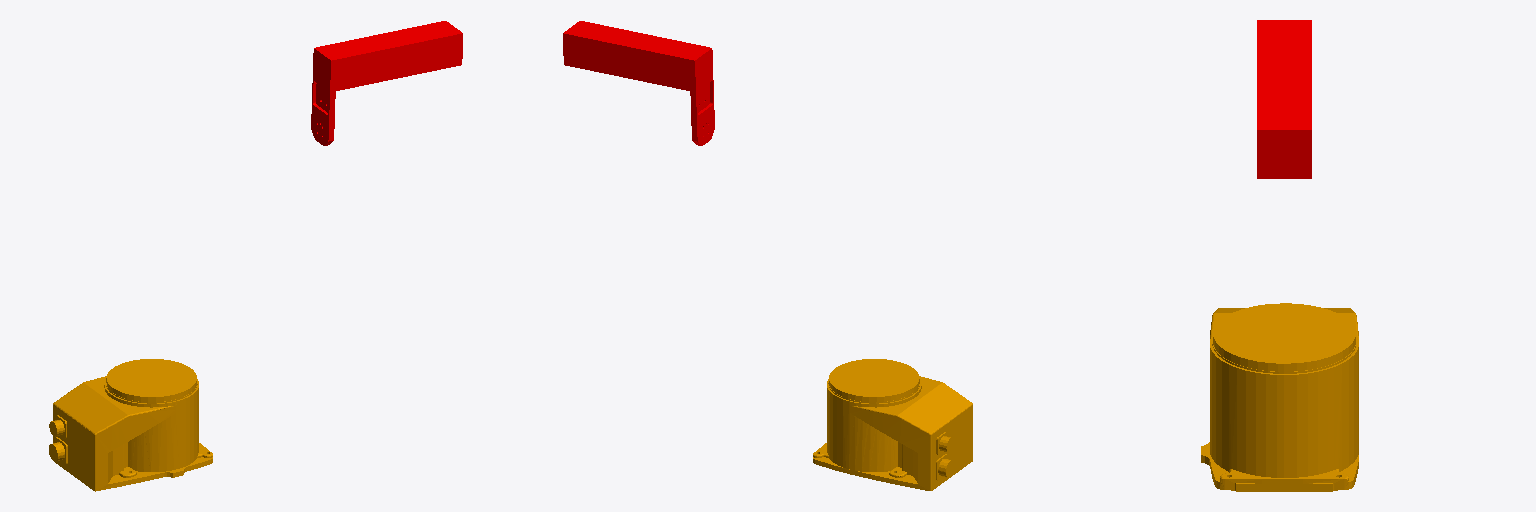
The robot description file, URDF, robot "Mitsubishi Melfa RV-4A":
<robot name="Mitsubishi Melfa RV-4A">
    <material name="red">
        <color rgba="1 0 0 0.8"/>
    </material>
    <material name="green">
        <color rgba="0 1 0 0.8"/>
    </material>

    <!-- Link section -->
    <link name="base">
        <inertial>
            <origin xyz="0 0 0"/>
            <mass value="10.842"/>
            <inertia ixx="0" ixy="0" ixz="0" iyy="0" iyz="0" izz="0"/>
        </inertial>
        <visual name="BASE">
            <geometry>
                <mesh filename="collision/rv_4a_top_1_RV_4A_BASE.stl"/>
            </geometry>
            <origin xyz="0 0 0"/>
        </visual>
    </link>
    <link name="link1">
        <inertial>
            <origin xyz="0 0 0" rpy="0 0 0"/>
            <mass value="8.060"/>
            <inertia ixx="0" ixy="0" ixz="0" iyy="0" iyz="0" izz="0"/>
        </inertial>
        <visual name="SHOULDER">
            <geometry>
                <mesh filename="collision/rv_4a_top_1_RV_4A_SHOULDER.stl"/>
            </geometry>
            <origin xyz="0 0 0"/>
            <material name="green"/>
        </visual>
    </link>
    <link name="link2">
        <inertial>
            <origin xyz="0 0 0" rpy="0 0 0"/>
            <mass value="5.588"/>
            <inertia ixx="0" ixy="0" ixz="0" iyy="0" iyz="0" izz="0"/>
        </inertial>
        <visual name="NO1ARM">
            <geometry>
                <mesh filename="collision/rv_4a_top_1_RV_4A_NO1ARM.stl"/>
            </geometry>
            <origin xyz="-100 0 -350"/>
            <material name="red"/>
        </visual>
    </link>
    <link name="link3">
        <inertial>
            <origin xyz="0 0 0" rpy="0 0 0"/>
            <mass value="8.311"/>
            <inertia ixx="0" ixy="0" ixz="0" iyy="0" iyz="0" izz="0"/>
        </inertial>
        <visual name="ELBOW">
            <geometry>
                <mesh filename="collision/rv_4a_top_1_RV_4A_ELBOW.stl"/>
            </geometry>
            <origin xyz="-100 0 -600"/>
        </visual>
    </link>
    <link name="link4">
        <inertial>
            <origin xyz="0 0 0" rpy="0 0 0"/>
            <mass value="3.204"/>
            <inertia ixx="0" ixy="0" ixz="0" iyy="0" iyz="0" izz="0"/>
        </inertial>
        <visual name="NO2ARM">
            <geometry>
                <mesh filename="collision/rv_4a_top_1_RV_4A_NO2ARM.stl"/>
            </geometry>
            <origin xyz="-100 0 -735"/>
            <material name="red"/>
        </visual>
    </link>
    <link name="link5">
        <inertial>
            <origin xyz="0 0 0" rpy="0 0 0"/>
            <mass value="1.243"/>
            <inertia ixx="0" ixy="0" ixz="0" iyy="0" iyz="0" izz="0"/>
        </inertial>
        <visual name="WRIST">
            <geometry>
                <mesh filename="collision/rv_4a_top_1_RV_4A_WRIST.stl"/>
            </geometry>
            <origin xyz="-350 0 -735"/>
            <material name="green"/>
        </visual>
    </link>
    <link name="link6">
        <inertial>
            <origin xyz="0 0 0" rpy="0 0 0"/>
            <mass value="0.107"/>
            <inertia ixx="0" ixy="0" ixz="0" iyy="0" iyz="0" izz="0"/>
        </inertial>
        <visual name="WRIST FLANGE">
            <geometry>
                <mesh filename="collision/rv_4a_top_1_RV_4A_WRIST_FLANGE.stl"/>
            </geometry>
            <origin xyz="-440 0 -735" rpy="0 0 0"/>
        </visual>
    </link>
    <link name="adapter_plate">
        <inertial>
            <origin xyz="0 0 0" rpy="0 0 0"/>
            <mass value="0.140"/>
            <inertia ixx="0" ixy="0" ixz="0" iyy="0" iyz="0" izz="0"/>
        </inertial>
        <visual name="ADAPTER PLATE">
            <geometry>
                <mesh filename="collision/adapter.stl"/>
            </geometry>
            <origin xyz="0 0 0" rpy="-1.5708 0 -1.5708"/>
            <material name="red"/>
        </visual>
    </link>
    <link name="tool">
        <inertial>
            <origin xyz="0 0 0" rpy="0 0 0"/>
            <mass value="2"/>
            <inertia ixx="0" ixy="0" ixz="0" iyy="0" iyz="0" izz="0"/>
        </inertial>
        <visual name="EXTRUDER">
            <geometry>
                <box size="80 80 350"/>
            </geometry>
            <origin xyz="175 0 150" rpy="-1.5708 0 -1.5708"/>
            <material name="red"/>
        </visual>
    </link>

    <!-- Serial chain of joints -->
    <joint name="J1" type="revolute">
        <origin xyz="0 0 0" rpy="0 0 0"/>
        <parent link="base"/>
        <child link="link1"/>
        <limit lower="-2.7925" upper="2.7925" effort="0" velocity="3.7699"/>
        <axis xyz="0 0 1"/>
    </joint>
    <joint name="J2" type="revolute">
        <origin xyz="100 0 350" rpy="0 0 0"/>
        <parent link="link1"/>
        <child link="link2"/>
        <axis xyz="0 1 0"/>
        <limit lower="-1.5708" upper="2.4435" effort="0" velocity="4.7124"/>
        <axis xyz="0 0 1"/>
    </joint>
    <joint name="J3" type="revolute">
        <origin xyz="0 0 250" rpy="0 -1.5708 0"/>
        <parent link="link2"/>
        <child link="link3"/>
        <axis xyz="0 1 0"/>
        <limit lower="0.2618" upper="2.9496" effort="0" velocity="4.7124"/>
    </joint>
    <joint name="J4" type="revolute">
        <origin xyz="0 0 135" rpy="0 0 0"/>
        <parent link="link3"/>
        <child link="link4"/>
        <axis xyz="1 0 0"/>
        <limit lower="-2.7925" upper="2.7925" effort="0" velocity="4.7124"/>
    </joint>
    <joint name="J5" type="revolute">
        <origin xyz="250 0 0" rpy="0 0 0"/>
        <parent link="link4"/>
        <child link="link5"/>
        <axis xyz="0 1 0"/>
        <limit lower="-2.0944" upper="2.0944" effort="0" velocity="4.7124"/>
    </joint>
    <joint name="J6" type="revolute">
        <origin xyz="90 0 0" rpy="0 0 0"/>
        <parent link="link5"/>
        <child link="link6"/>
        <axis xyz="1 0 0"/>
        <limit lower="-3.4907" upper="3.4907" effort="0" velocity="7.5398"/>
    </joint>
    <joint name="WRIST FLANGE" type="fixed">
        <parent link="link6"/>
        <child link="adapter_plate"/>
    </joint>
    <joint name="INTERFACE EXTRUDER" type="fixed">
        <parent link="adapter_plate"/>
        <child link="tool"/>
    </joint>
</robot>

--- What the picture shows (computed from the rendered views, not written in the file) ---
3 views of the same robot in one strip: view 1: azimuth 30°, elevation 25°; view 2: azimuth 150°, elevation 25°; view 3: azimuth 270°, elevation 25° (orthographic).
Model Mitsubishi Melfa RV-4A with 9 links and 8 joints (6 revolute, 2 fixed), rooted at base, posed joints at zero except 1 at the middle of their limits (J3 = 1.61).
Links seen in each view (by area): view 1: base, tool, adapter_plate; view 2: base, tool, adapter_plate; view 3: base, tool.
Boxes of the visible links, x1,y1,x2,y2 form: base: (49,359,212,491); tool: (313,21,462,91); adapter_plate: (311,80,335,145); base: (813,359,972,490); tool: (563,21,712,91); adapter_plate: (690,80,714,145); base: (1201,303,1358,491); tool: (1257,20,1311,178).
Size in the robot's own frame: 1032 by 231 by 913 metres.
Meshes: 8 distinct files referenced, 2 mesh visuals loaded (2 binary STL); not drawn: 6 (reference not matched to a file when rendering).